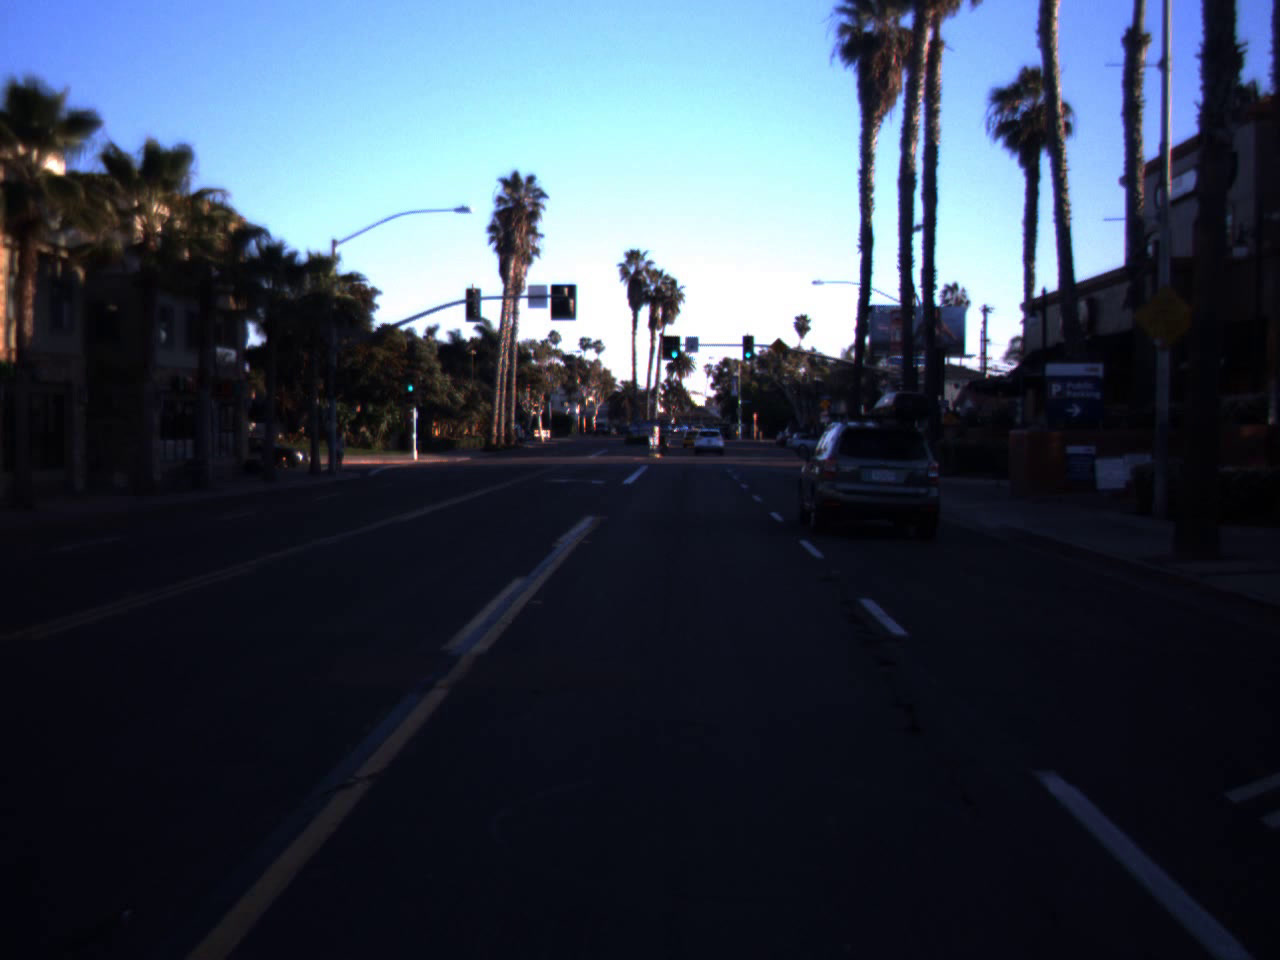go: (667, 339, 682, 359), (404, 372, 416, 392)
